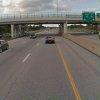Bridge: (3, 5, 90, 33)
